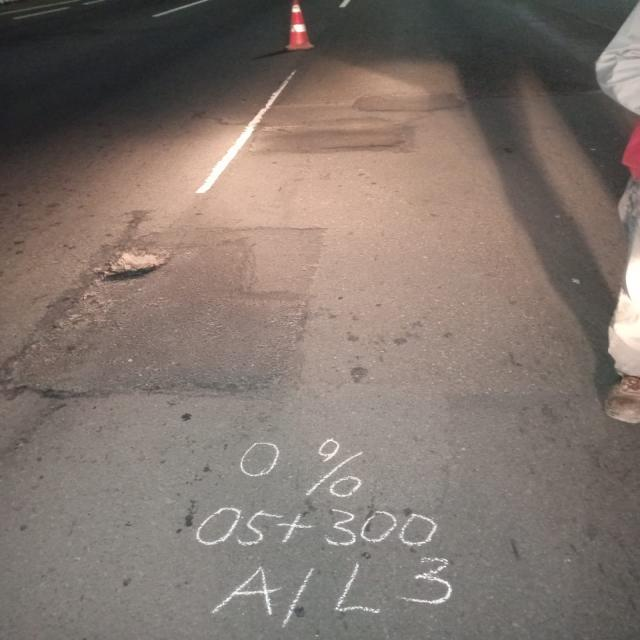Buraco: (87, 242, 178, 285), (348, 90, 469, 114)
